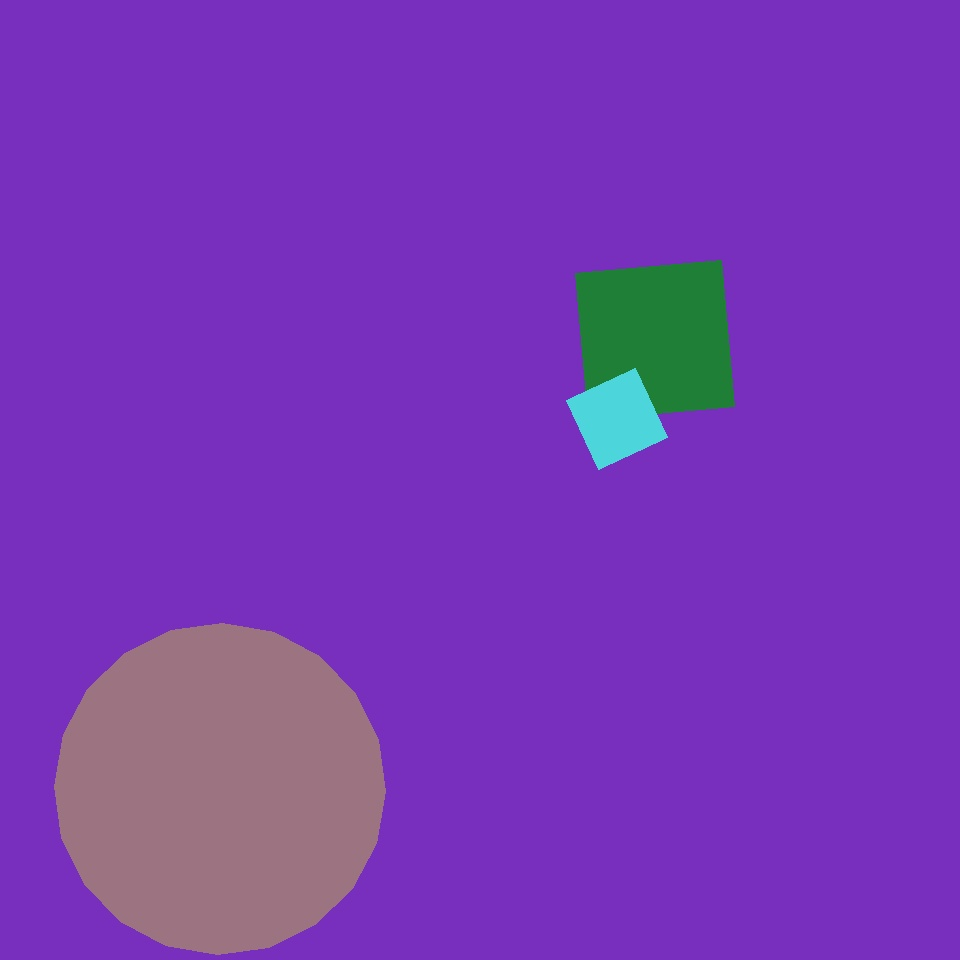square: (576, 260, 734, 420), (566, 368, 668, 470)
triangle: (54, 624, 386, 954)
